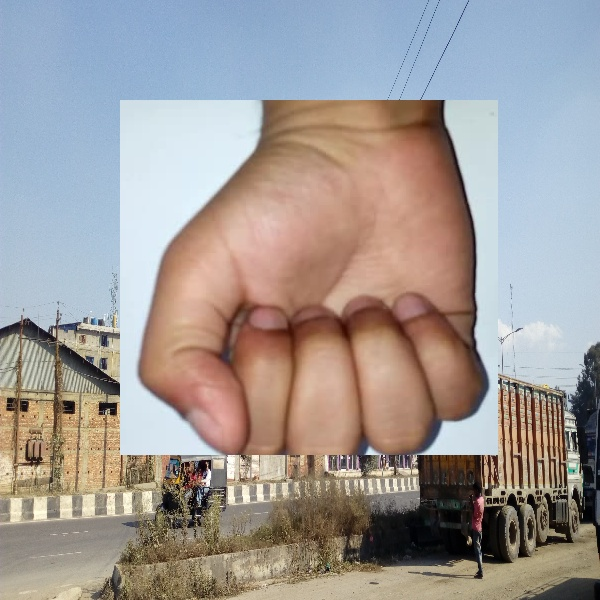A: (120, 100, 498, 455)
